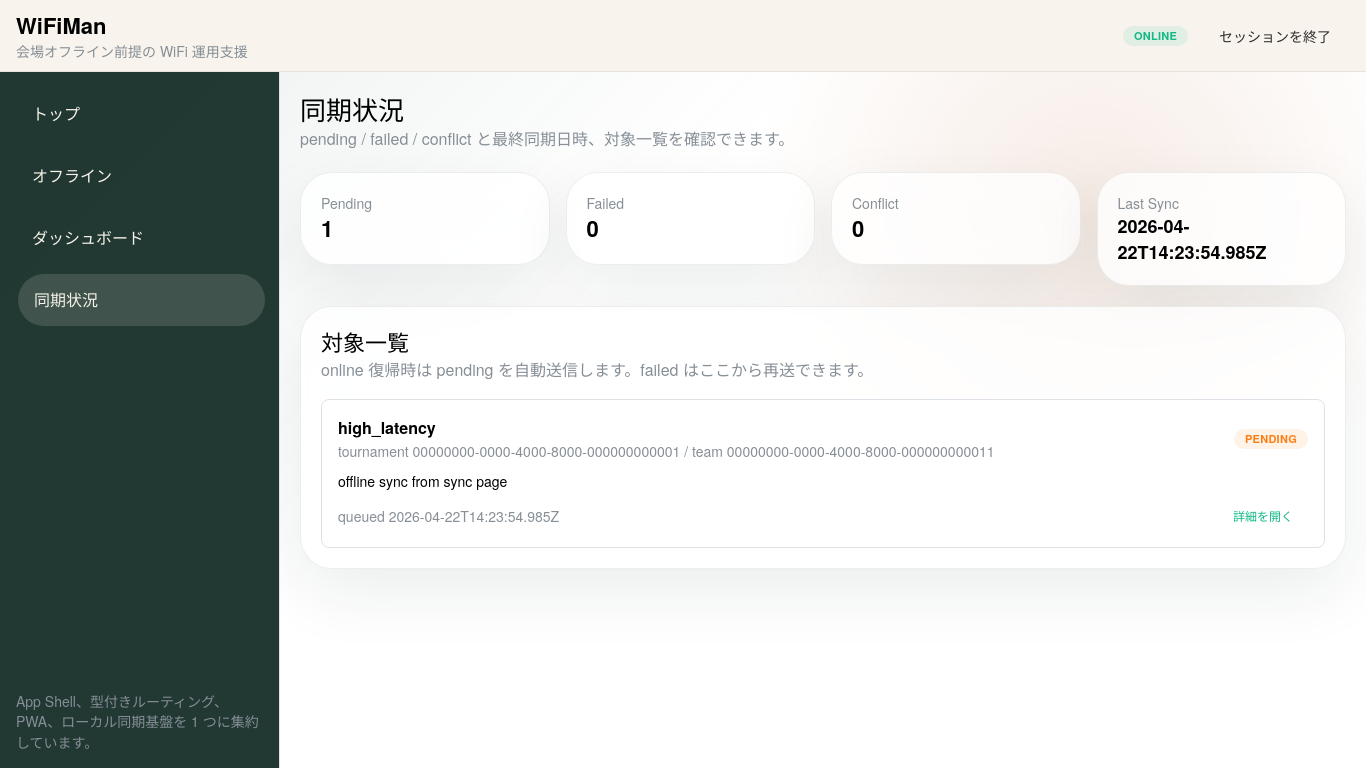
Scenario: team management routes › 同期状況画面から local pending 報告詳細へ移動できる
Expected: the heading "同期状況" is shown, [300,91,404,128]
Expected: the text "offline sync from sync page" is shown, [338,471,507,491]
Click the link "詳細を開く": (1263, 516) [1218,501,1308,531]
(page scrolled)
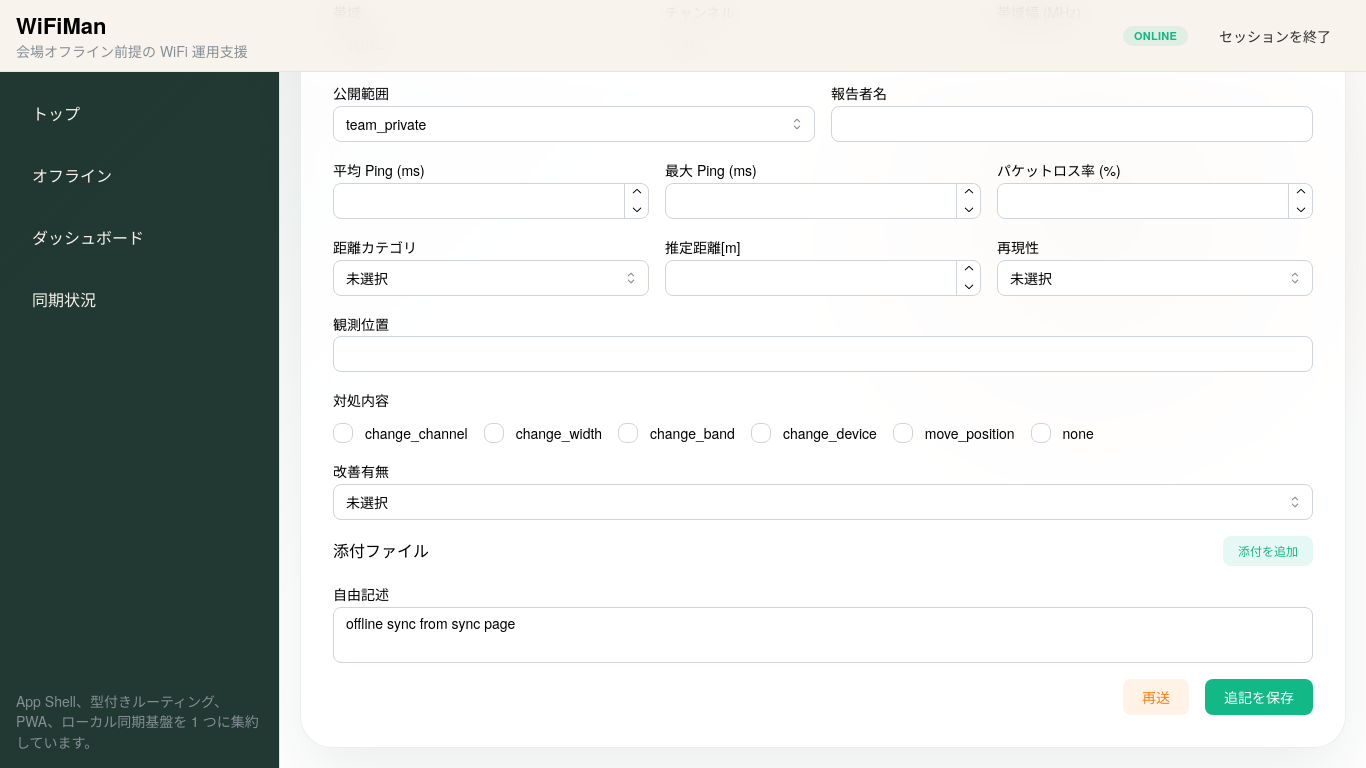
Result: the text box showing "offline sync from sync page" is shown at [333,607,1313,663]
